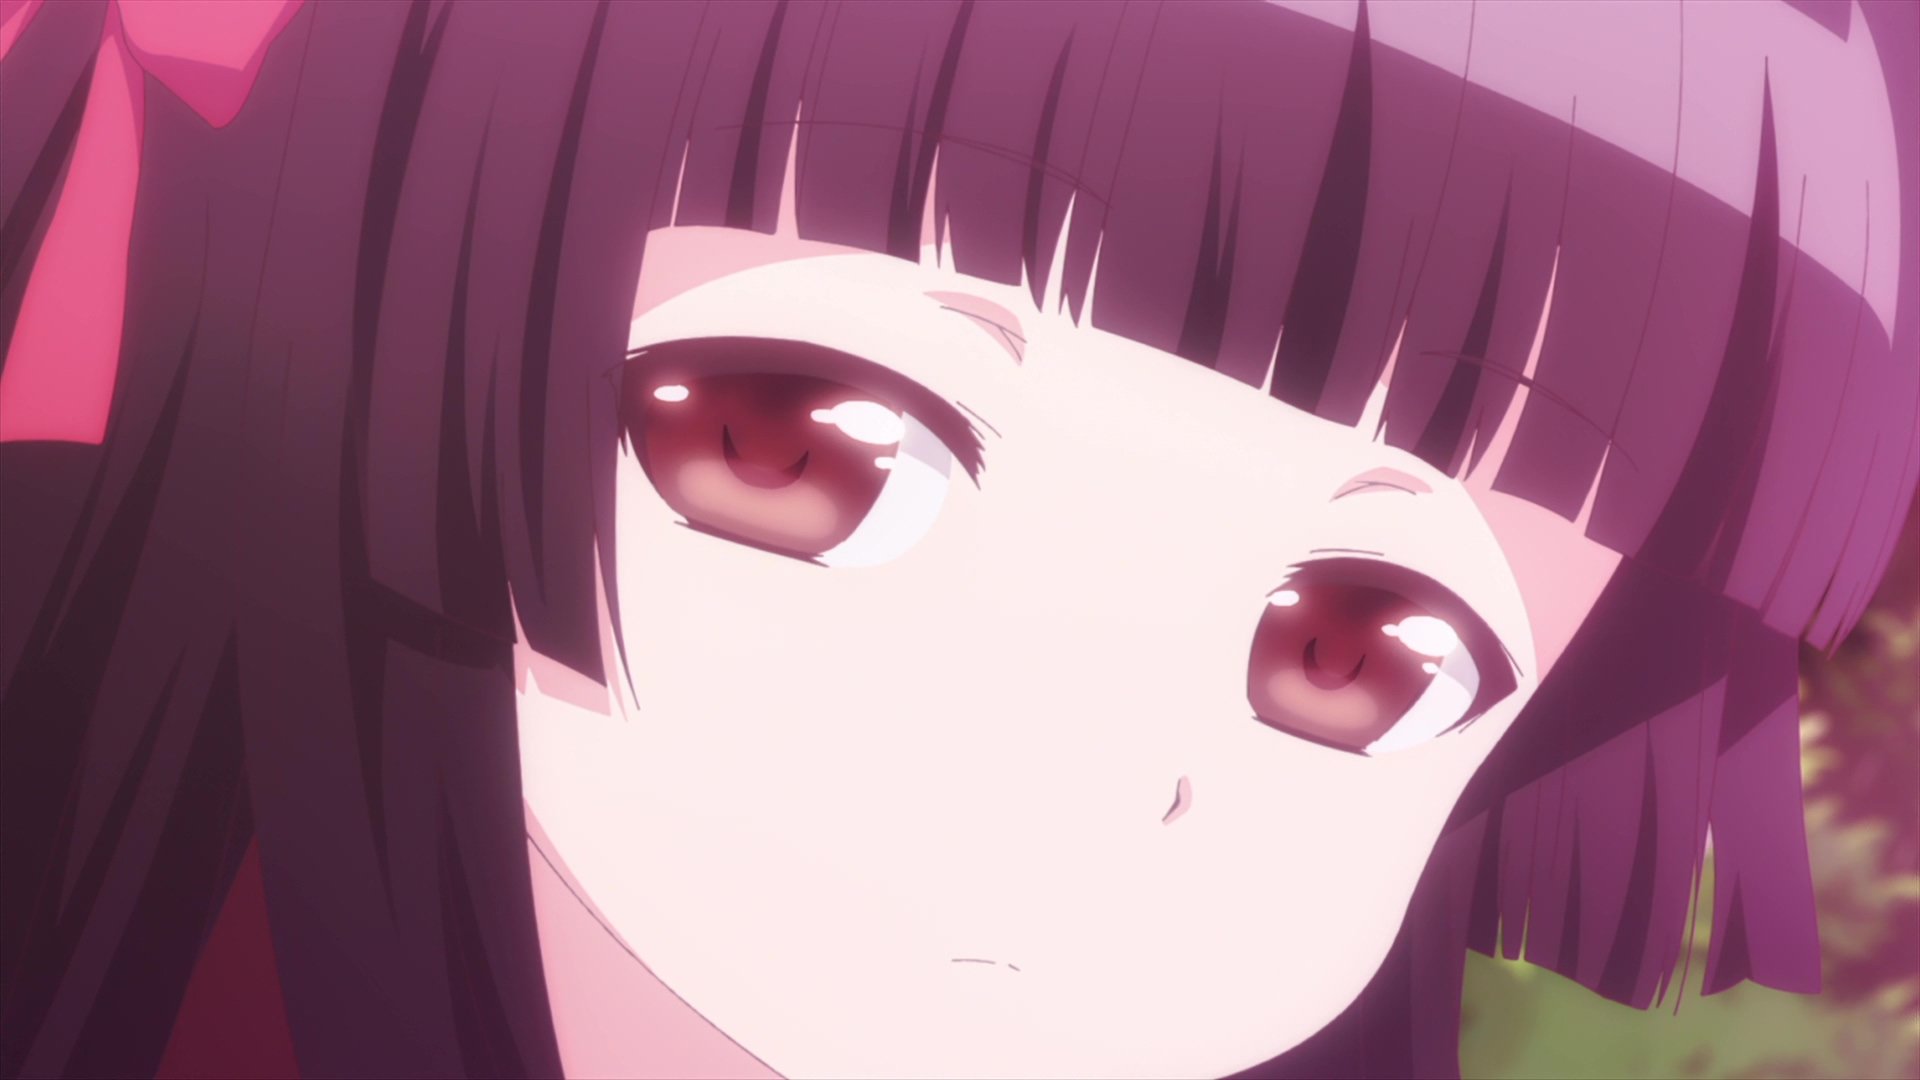樱: (1, 1, 1920, 1080)
